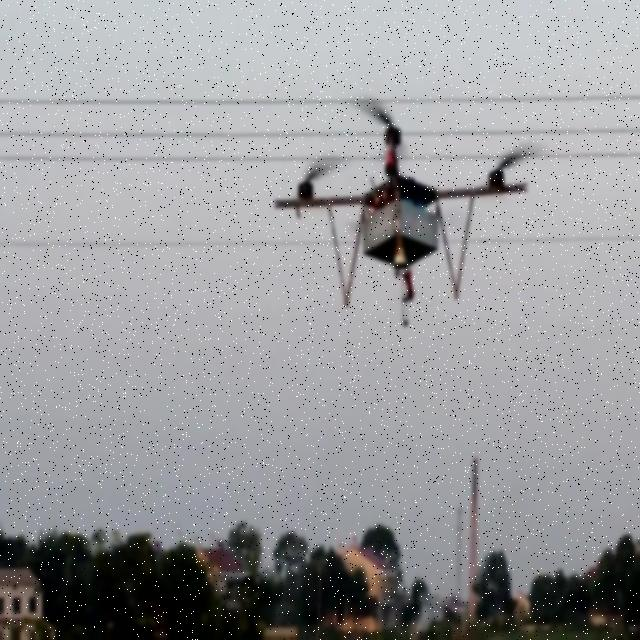UAV: (274, 94, 548, 328)
